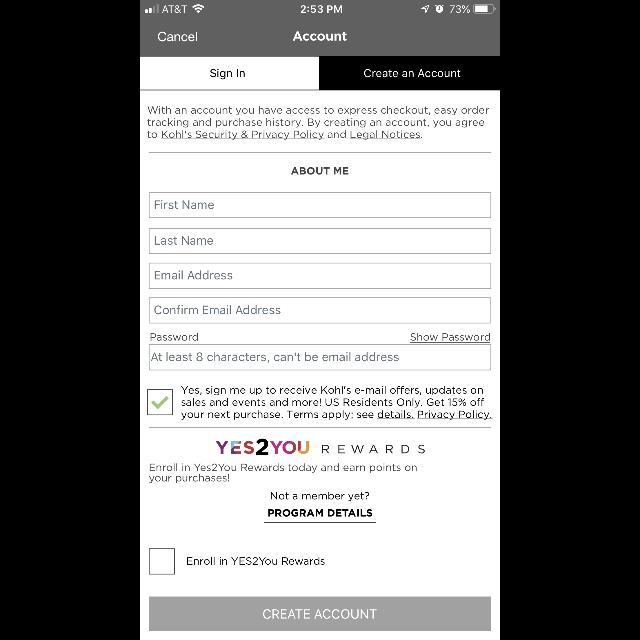checkbox: (147, 389, 173, 413), (150, 548, 174, 574)
image: (216, 439, 310, 455)
input: (149, 192, 491, 218), (149, 228, 491, 254), (149, 263, 491, 289), (149, 298, 491, 324), (149, 345, 491, 371)
text: (147, 106, 489, 140), (182, 386, 492, 420), (149, 463, 417, 483), (151, 352, 399, 363), (264, 509, 376, 523), (188, 557, 324, 565), (322, 444, 424, 454), (268, 492, 369, 502), (155, 306, 281, 314), (410, 333, 490, 343), (155, 270, 233, 280), (154, 200, 213, 210), (155, 237, 213, 245), (292, 167, 348, 175), (293, 32, 347, 40), (158, 32, 198, 42), (152, 333, 198, 341)
textbutton: (149, 596, 491, 632), (320, 56, 500, 90), (140, 56, 320, 90)
uppertaskbar: (140, 0, 500, 14)
